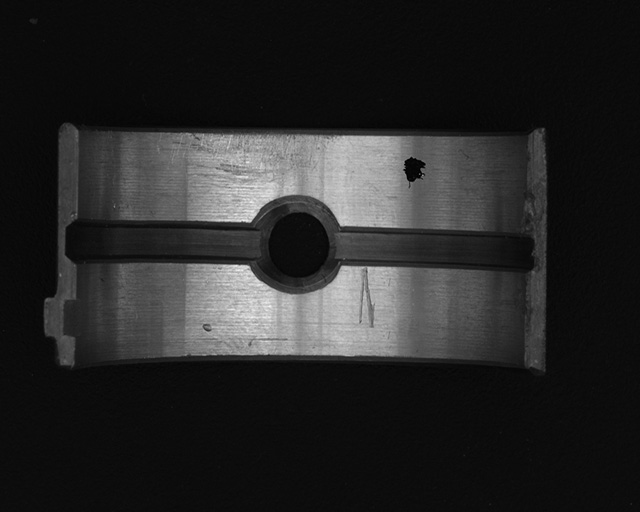blot: (402, 155, 428, 190)
bruise: (202, 323, 213, 333)
gap: (330, 225, 540, 277), (65, 220, 265, 268)
hole: (254, 198, 338, 290)
nick: (357, 266, 377, 329)
scratch: (154, 129, 343, 186)
